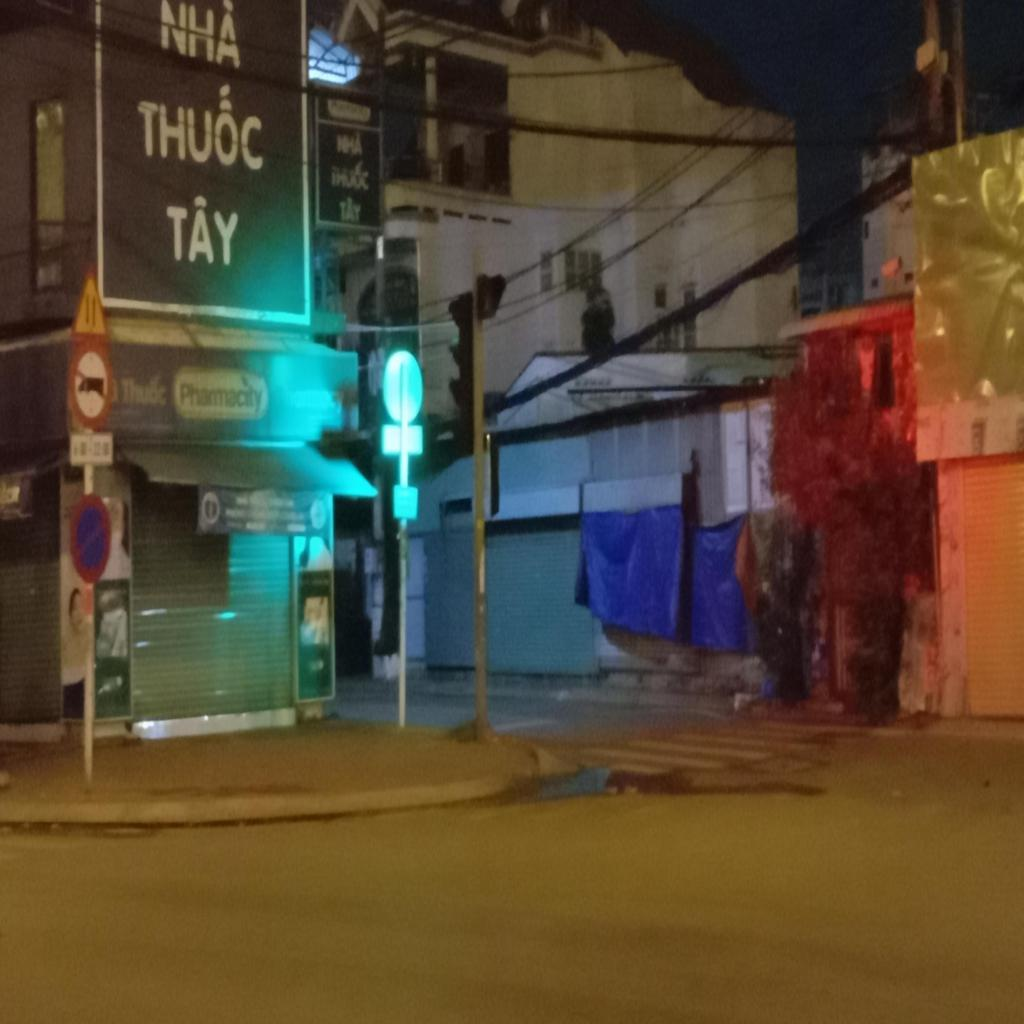cam_do_xe: (69, 493, 112, 582)
cam_o_to_tai: (68, 341, 115, 429)
khac: (69, 263, 109, 342), (71, 433, 112, 462)
